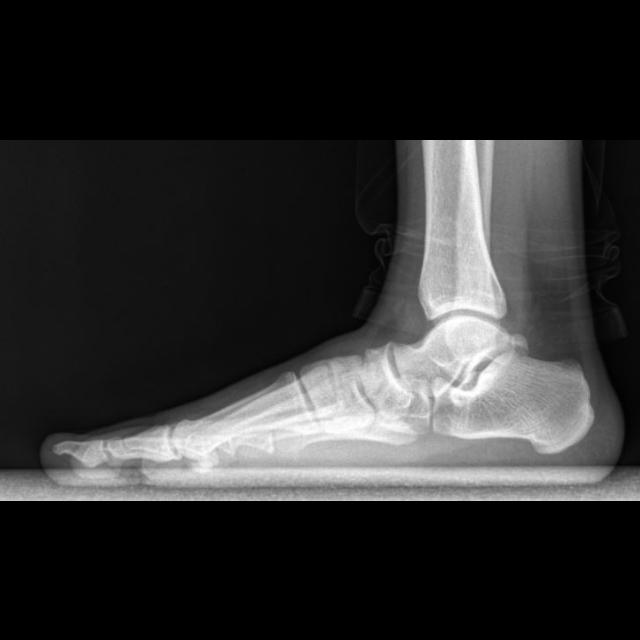a: (431, 345, 594, 453)
b: (359, 342, 414, 418)
c: (171, 380, 315, 468)
